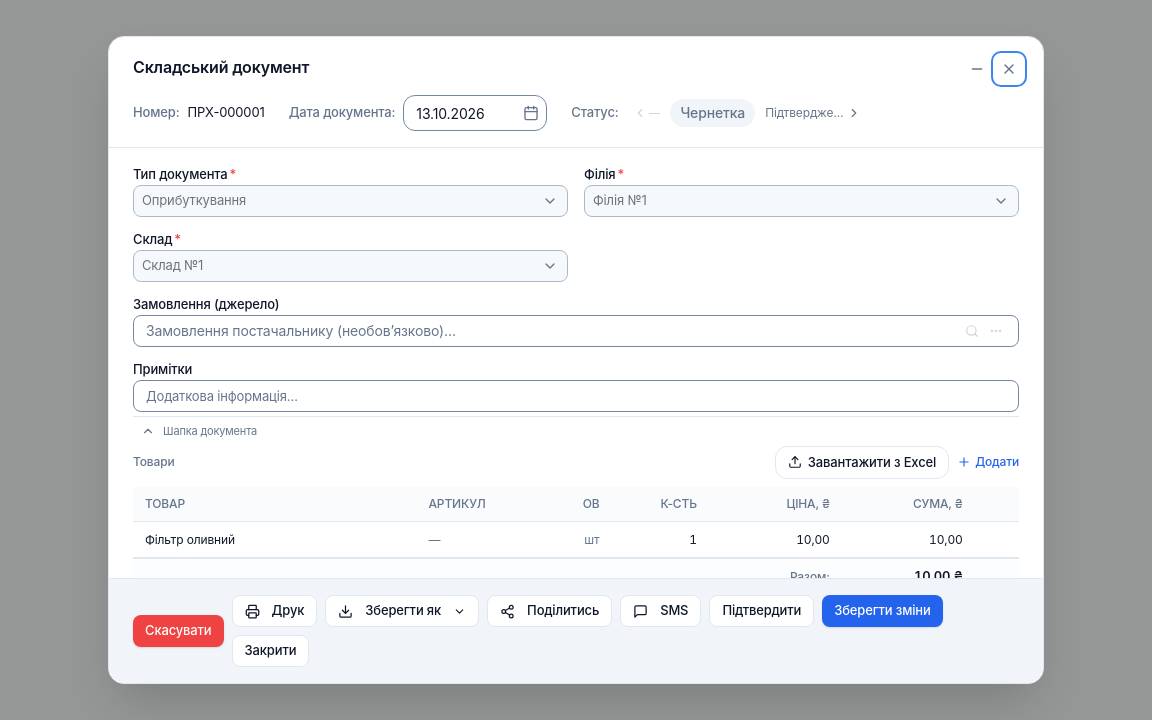
Test: Картка складського документа — помилка видима при згорнутій шапці (Bug #1017) › «Додати» згорнуло шапку, відмова збереження — над шапкою з role="alert"
This screenshot has width=1152, height=720.
Expected: the text "Фільтр оливний" is shown, [133,522,416,558]
Click the button "Додати".
click(988, 462)  # box [957,454,1019,470]
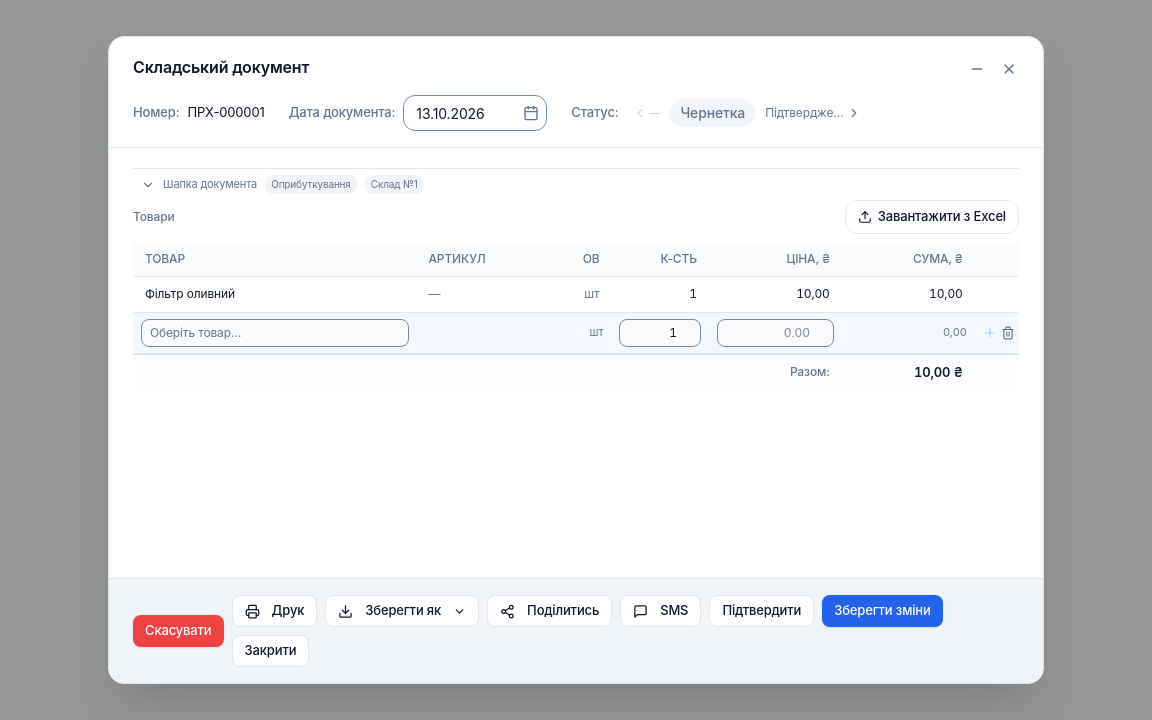
Click the button "Зберегти зміни".
click(882, 611)  # box [822,595,943,627]
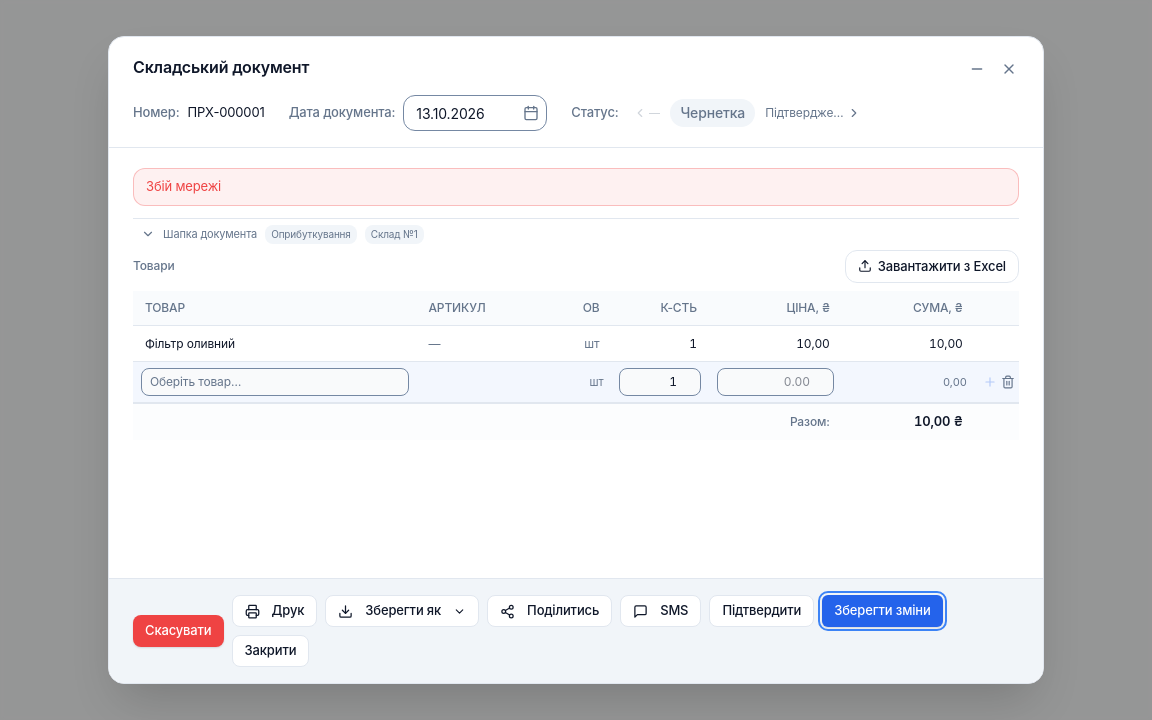
Now the message reads "Збій мережі", box [146,178,221,194]
